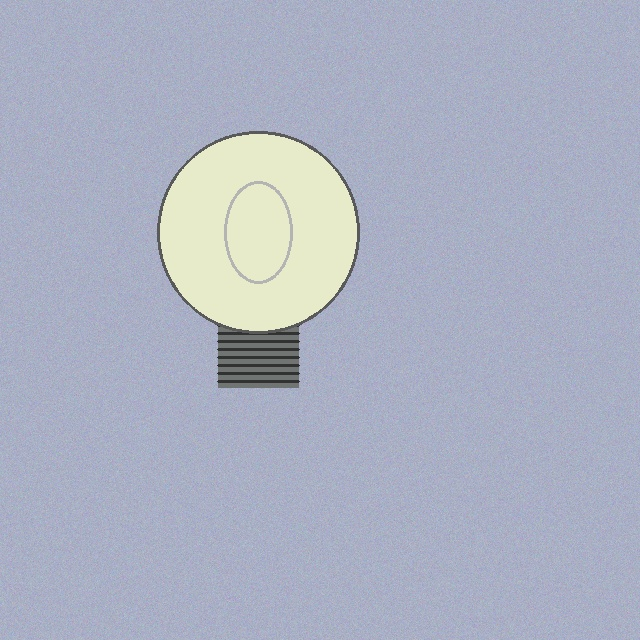bulb: (153, 127, 363, 392)
